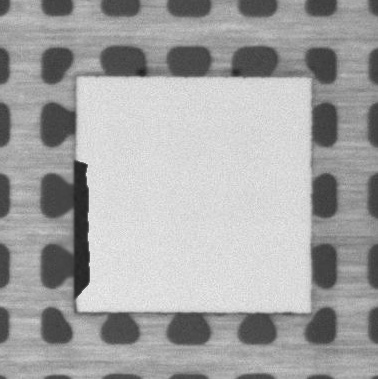DIE_BROKEN: (71, 154, 92, 299)
